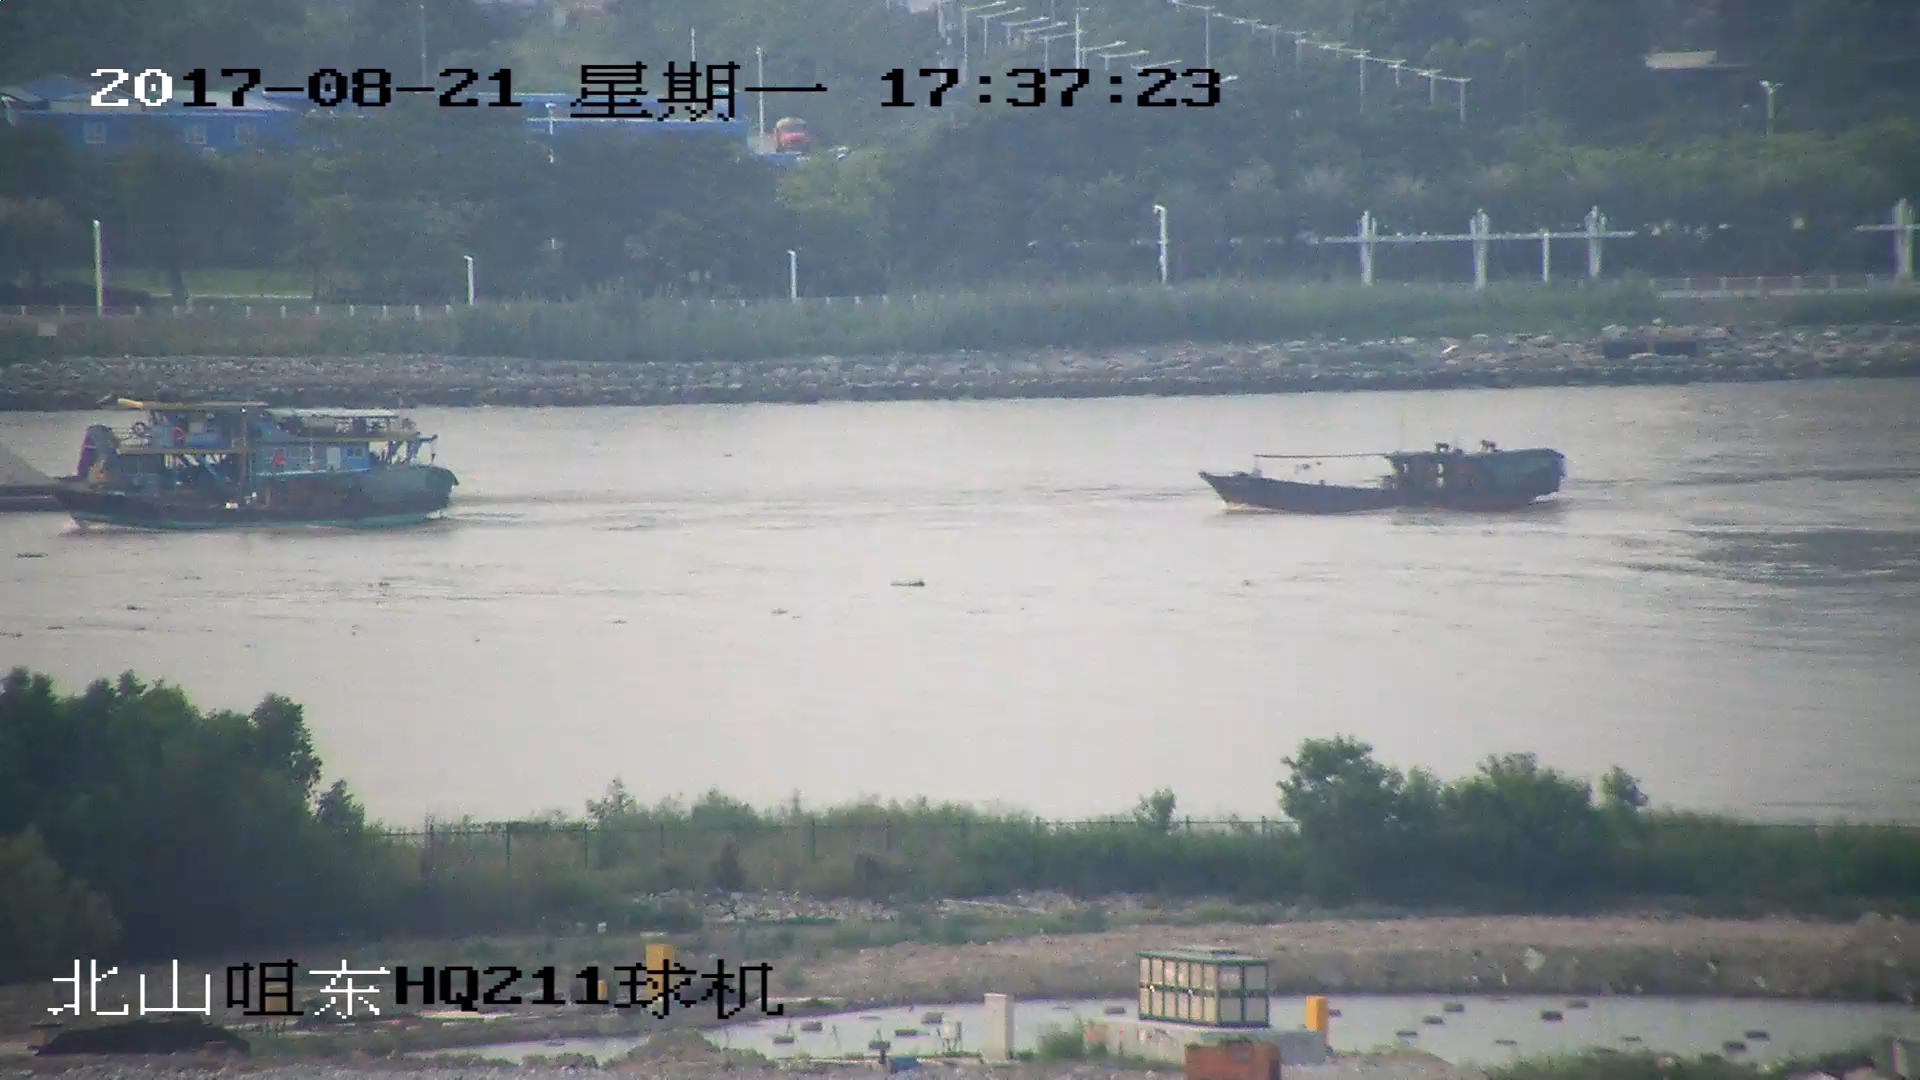fishing boat: (51, 428, 459, 530), (1200, 447, 1566, 518)
ore carrier: (1, 402, 415, 499)
